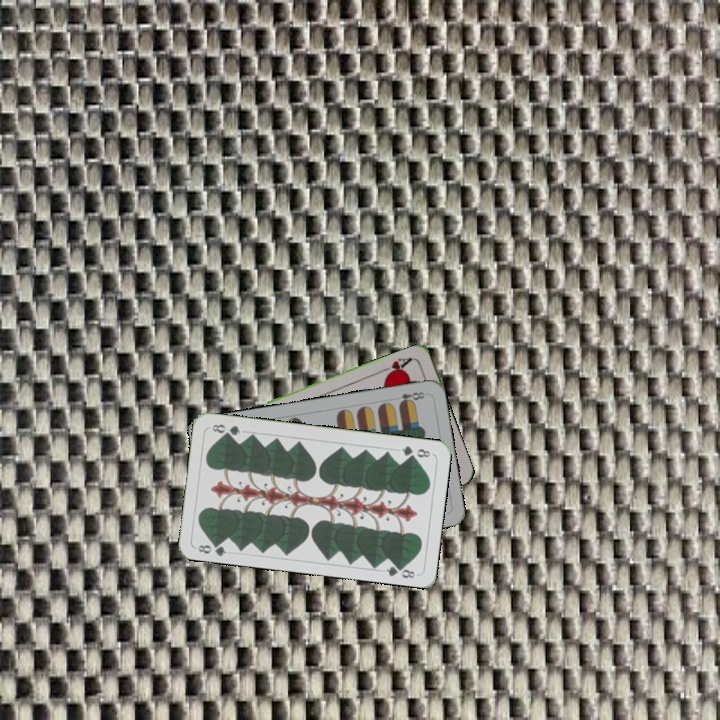E8: (395, 388, 427, 408)
G8: (194, 537, 229, 559), (398, 442, 433, 460)
HA: (377, 354, 415, 379)
